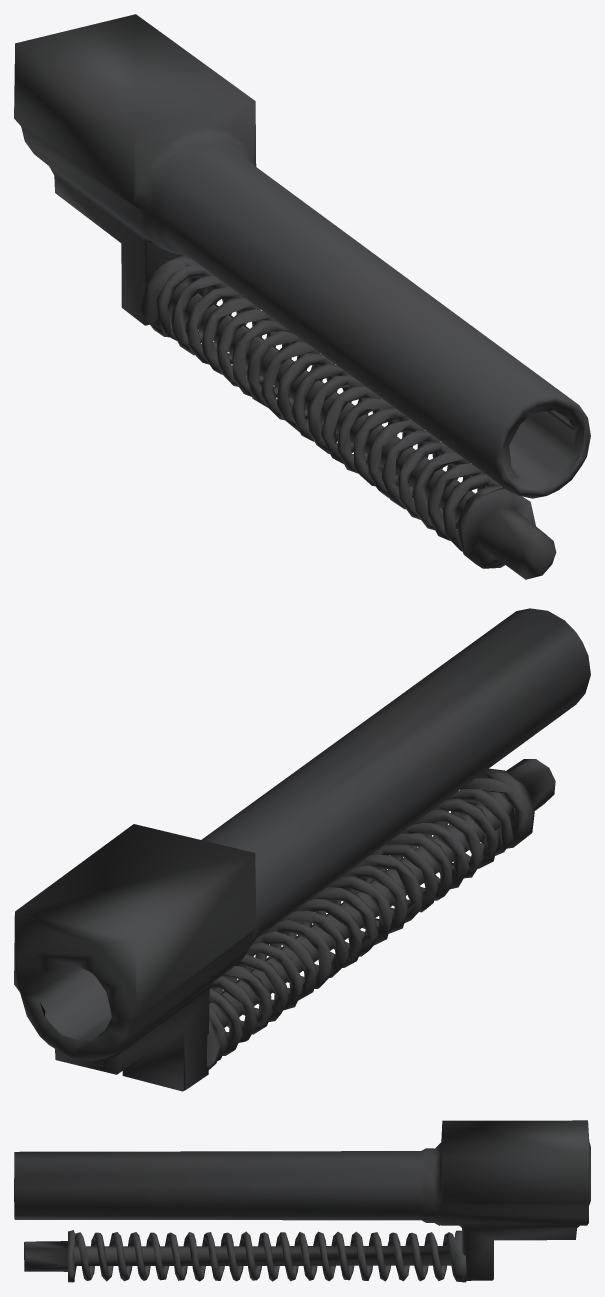
Rendered from SM_G17_Barrel_LOD1.fbx.
3 renders of one model, top to bottom at view 1: azimuth 30°, elevation 25°; view 2: azimuth 150°, elevation 25°; view 3: azimuth 270°, elevation 25°, orthographic. The views are drawn at different scales.
Parts seen in each view (by area): view 1: SM_G17_Barrel_LOD1; view 2: SM_G17_Barrel_LOD1; view 3: SM_G17_Barrel_LOD1.
Boxes of the visible parts, <box> form: SM_G17_Barrel_LOD1: <box>14,14,590,579</box>; SM_G17_Barrel_LOD1: <box>14,608,590,1091</box>; SM_G17_Barrel_LOD1: <box>14,1120,590,1282</box>.
Bounding box in the file's own units: 1.71 × 11.22 × 3.04.
